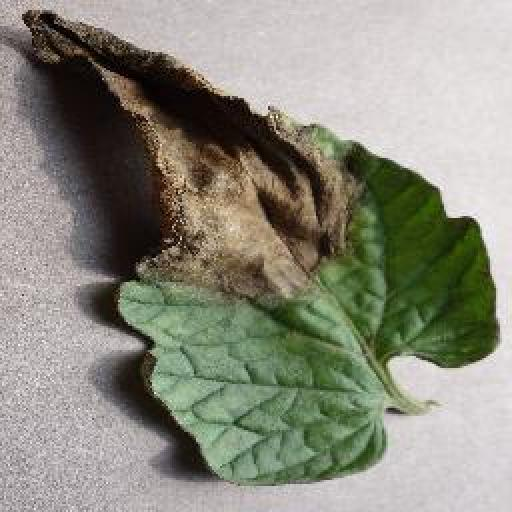disease_tomato: (18, 2, 502, 486)
